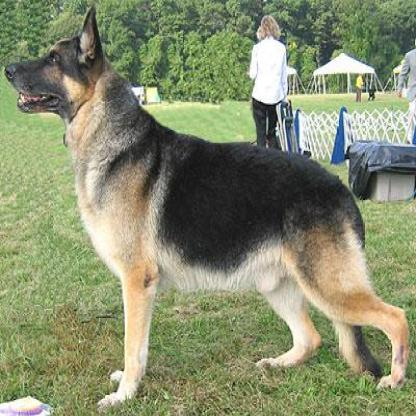German_shepherd: (2, 3, 414, 410)
